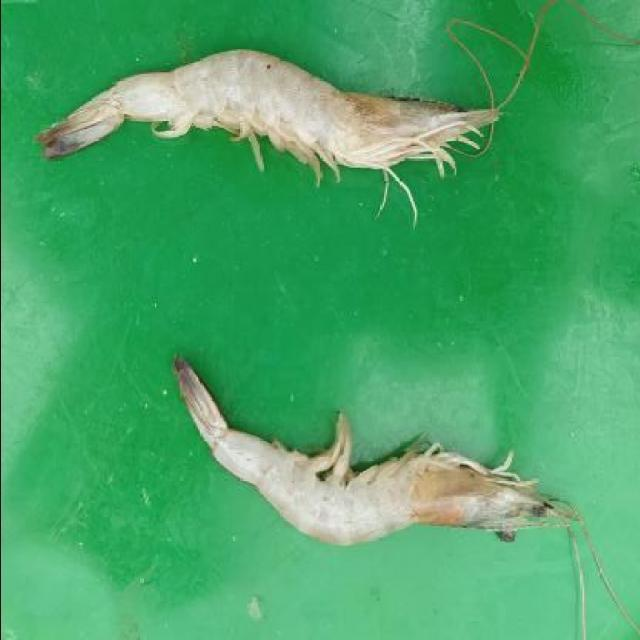shrimp: (164, 355, 587, 556), (31, 44, 526, 183)
